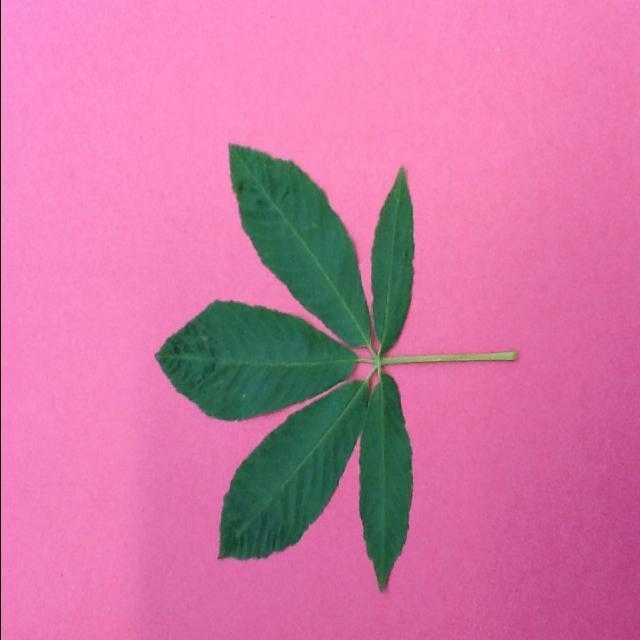foliage: (220, 138, 370, 358), (210, 371, 373, 567), (148, 292, 372, 418), (357, 373, 413, 598), (368, 166, 414, 342)
